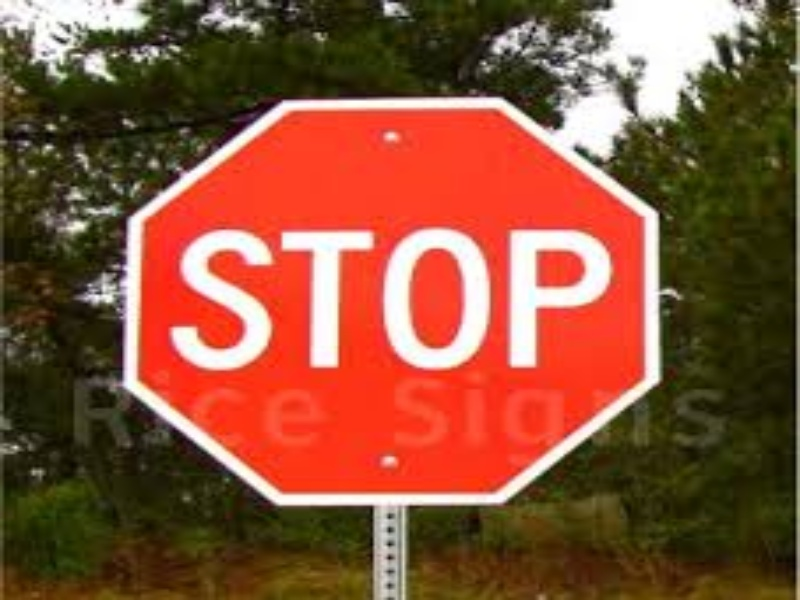Stop_Sign: (127, 98, 661, 505)
